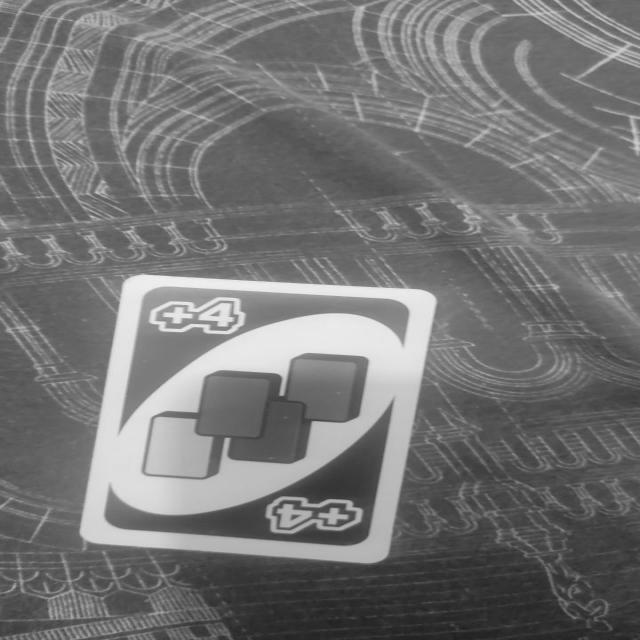card_4-: (78, 273, 438, 564)
